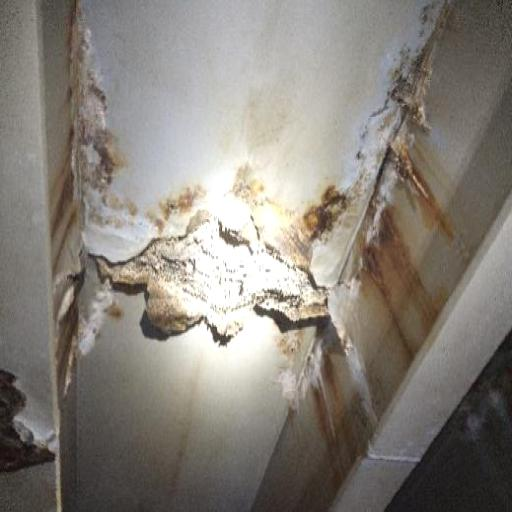Detect-rust-on-metal-surfaces: (51, 7, 471, 469), (1, 360, 63, 480)
